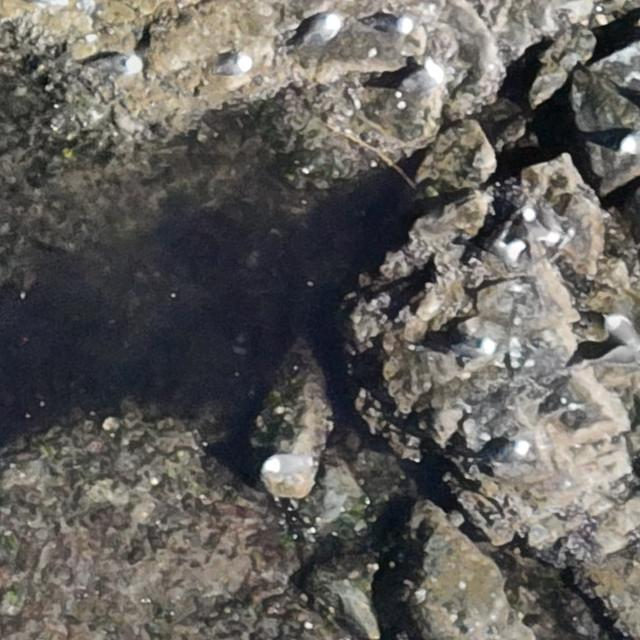umineko: (299, 13, 341, 46), (261, 450, 318, 474), (402, 61, 442, 93), (89, 52, 138, 73), (459, 335, 499, 360), (523, 210, 555, 238), (373, 12, 410, 35), (491, 441, 532, 461), (219, 56, 247, 75), (616, 132, 638, 154), (606, 315, 627, 338)
